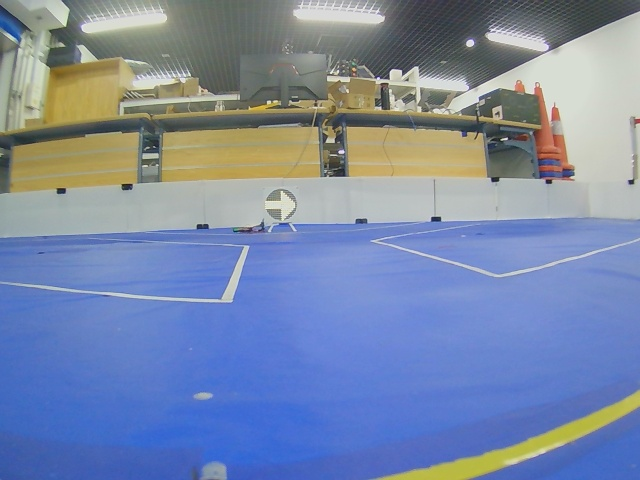right_yellow: (265, 189, 297, 222)
